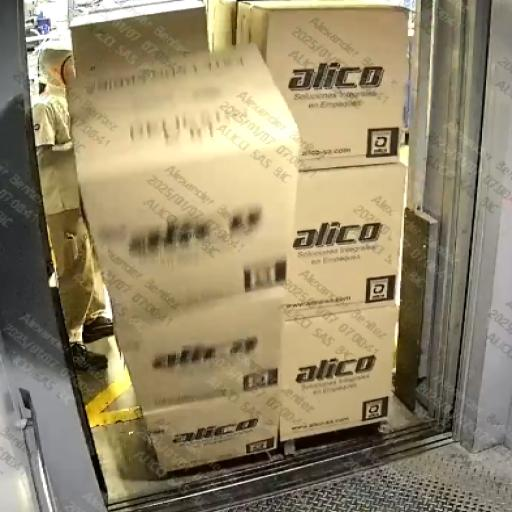Caja caida: (29, 19, 336, 475)
